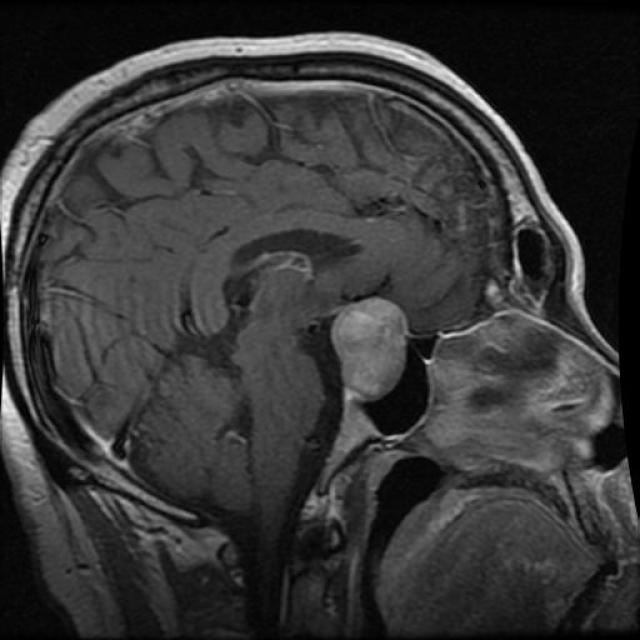brain_tumor: (330, 299, 409, 402)
